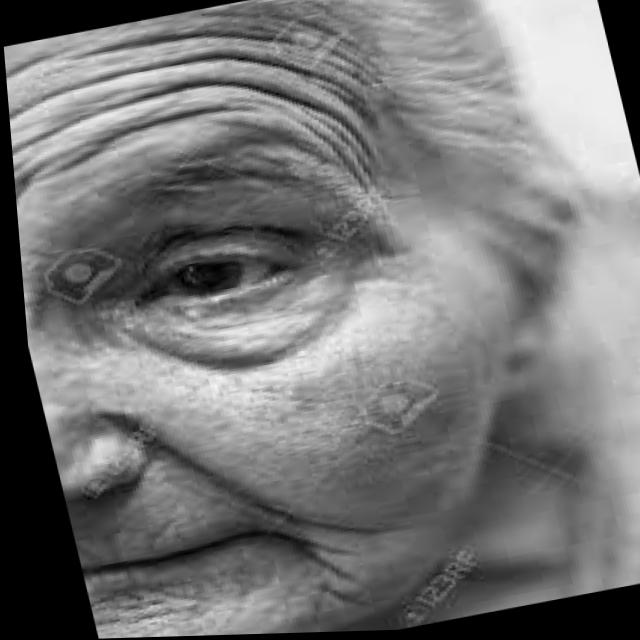wrinkle: (10, 78, 375, 165), (7, 54, 348, 121), (47, 105, 264, 175), (239, 99, 371, 202), (62, 30, 301, 58), (205, 13, 355, 47), (12, 143, 84, 199), (4, 49, 60, 79)
